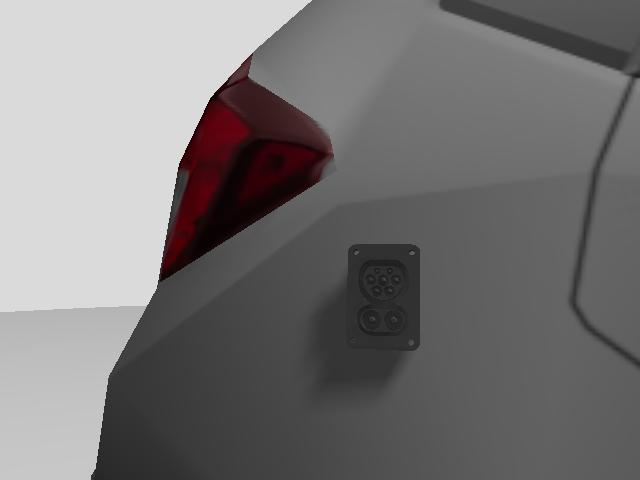EV-socket: (341, 236, 427, 357)
